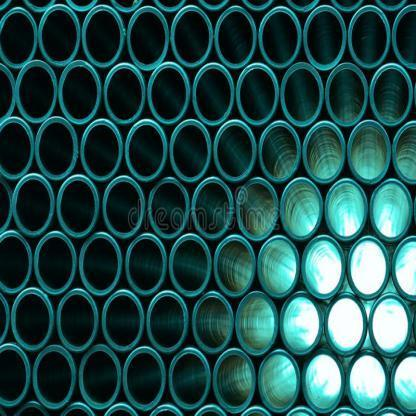pipe: (301, 349, 346, 414), (78, 344, 122, 410), (122, 346, 166, 412), (212, 348, 256, 414), (347, 120, 391, 185), (302, 235, 346, 300), (346, 349, 390, 414), (280, 62, 324, 126), (280, 292, 324, 356), (368, 293, 412, 357), (347, 236, 390, 301), (303, 5, 346, 70), (58, 60, 100, 126), (146, 62, 190, 125), (324, 293, 368, 356), (325, 62, 368, 126), (12, 174, 55, 238), (57, 175, 100, 239), (370, 178, 413, 242), (79, 232, 122, 296), (235, 292, 278, 356), (33, 346, 76, 410), (258, 350, 301, 414), (127, 5, 169, 70), (302, 121, 346, 183), (258, 6, 302, 68), (192, 63, 235, 126), (11, 288, 54, 351), (35, 116, 77, 180), (258, 120, 300, 184), (280, 176, 322, 240), (146, 290, 188, 354), (236, 63, 279, 125), (325, 178, 368, 240), (34, 232, 77, 294), (257, 236, 300, 298), (214, 6, 257, 68), (370, 63, 412, 126), (80, 118, 122, 181), (125, 119, 167, 182), (214, 119, 256, 182), (170, 119, 212, 182), (103, 175, 145, 238), (192, 177, 234, 240), (169, 234, 211, 297), (38, 4, 80, 67), (82, 4, 124, 67), (348, 5, 390, 68), (57, 288, 98, 352), (16, 60, 58, 122), (102, 290, 144, 352), (192, 292, 234, 354), (170, 5, 212, 67), (214, 236, 256, 297), (126, 233, 166, 296), (170, 348, 210, 410), (148, 178, 189, 238), (104, 63, 144, 124), (0, 6, 37, 68), (0, 116, 34, 180), (0, 343, 31, 408), (0, 231, 32, 293), (391, 234, 416, 302), (390, 351, 415, 415), (392, 4, 416, 70), (392, 120, 416, 184)
